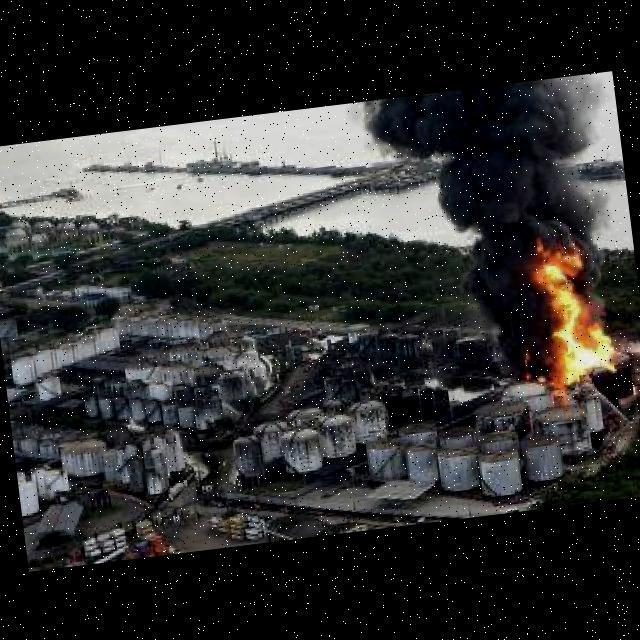Fire: (509, 223, 623, 390)
Smoke: (368, 70, 622, 357)
